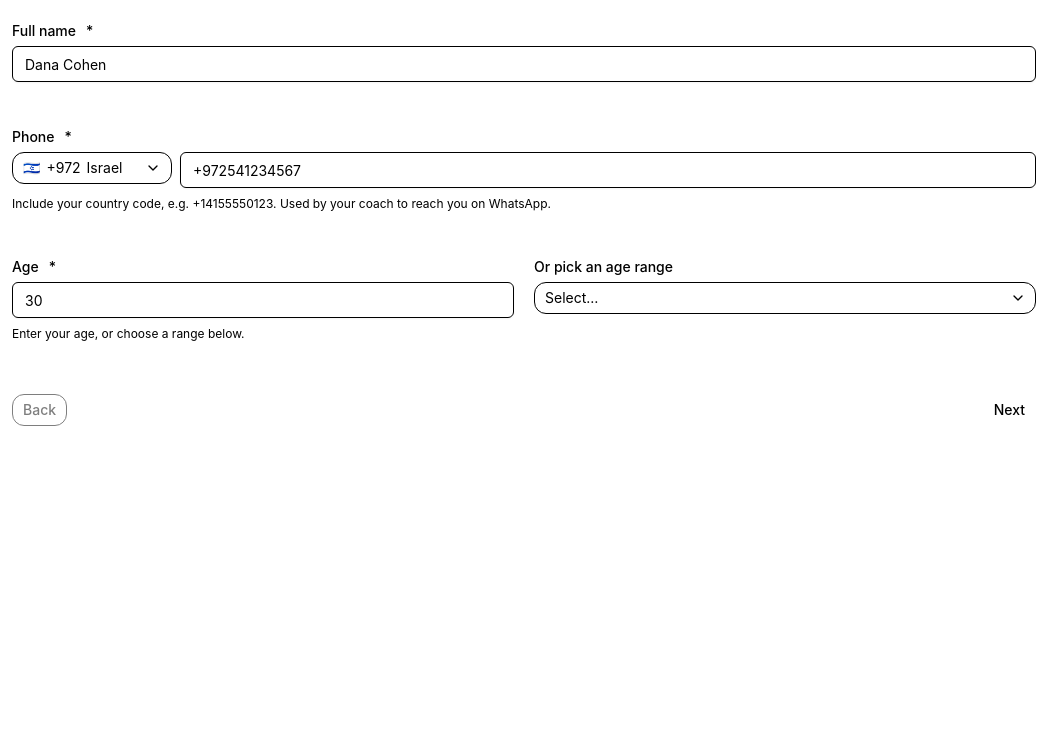
Test: OnboardingForm save-then-generate flow › keeps the pending state and its button when no plan was generated
This screenshot has width=1048, height=736.
What coordinates should you click on to do the following:
click the button "Next"
I would click on:
 (1009, 410)
Its box is 983,394 -> 1036,426.
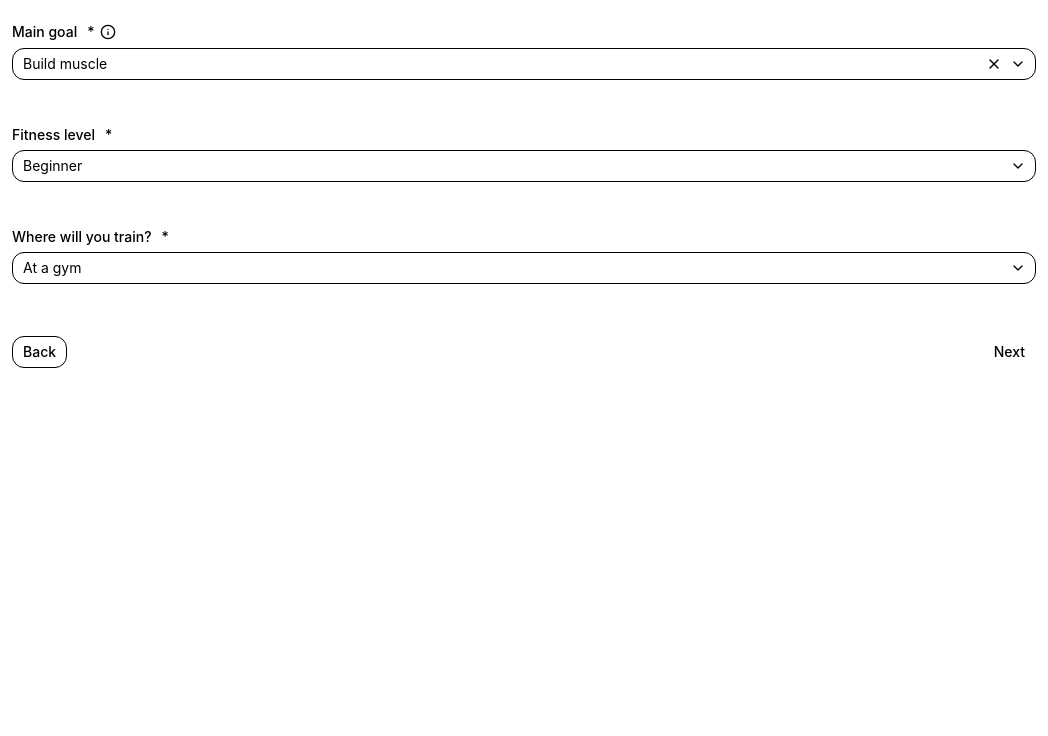
What coordinates should you click on to do the following:
click the button "Next"
I would click on:
 (1009, 352)
Its box is 983,336 -> 1036,368.
(page scrolled)
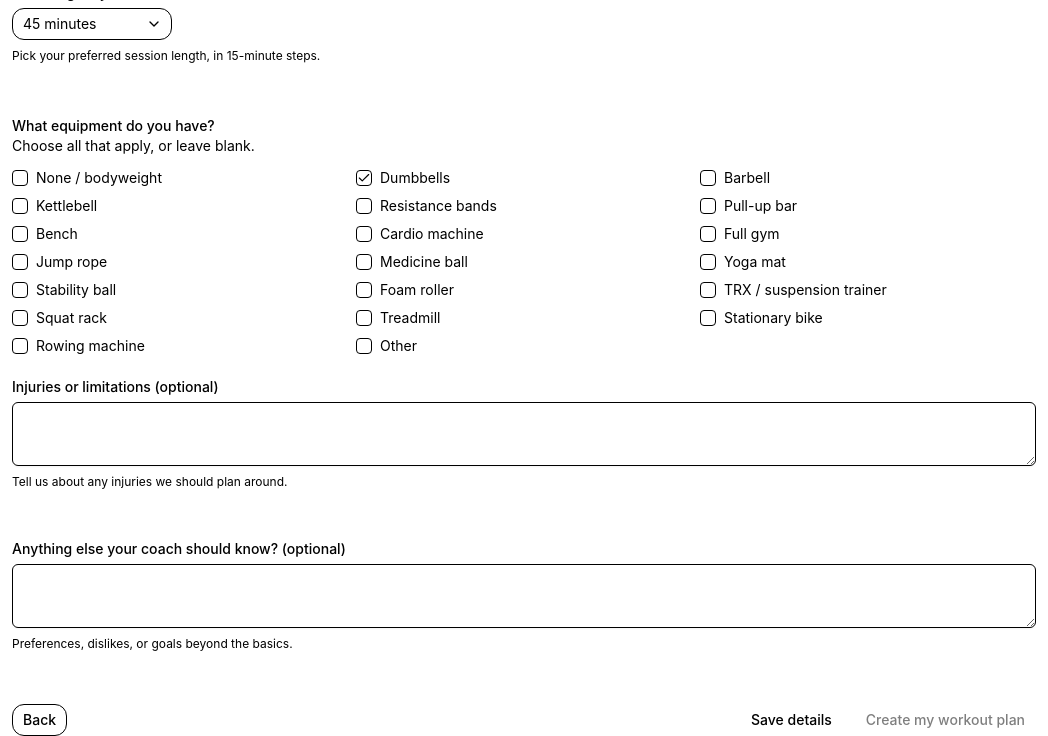
What coordinates should you click on to do the following:
click the button "Save details"
I would click on:
 (791, 720)
Its box is 740,704 -> 843,735.
(page scrolled)
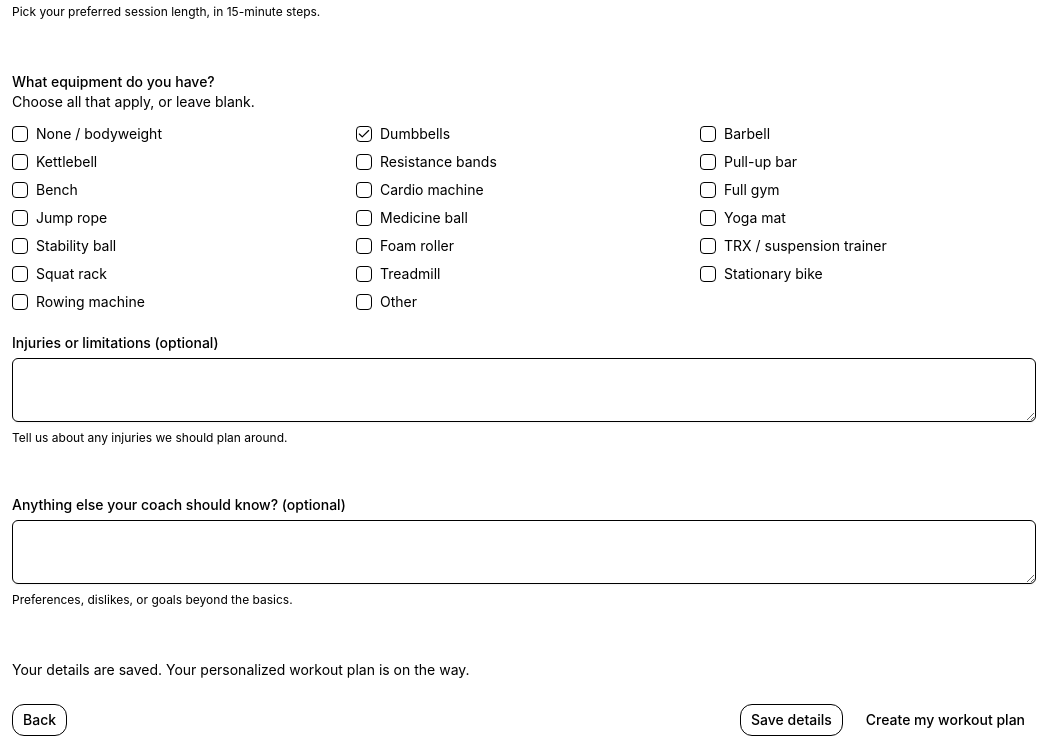
Result: the button "Create my workout plan" is enabled
What coordinates should you click on to do the following:
click the button "Create my workout plan"
I would click on:
 (945, 720)
Its box is 855,704 -> 1036,735.
(page scrolled)
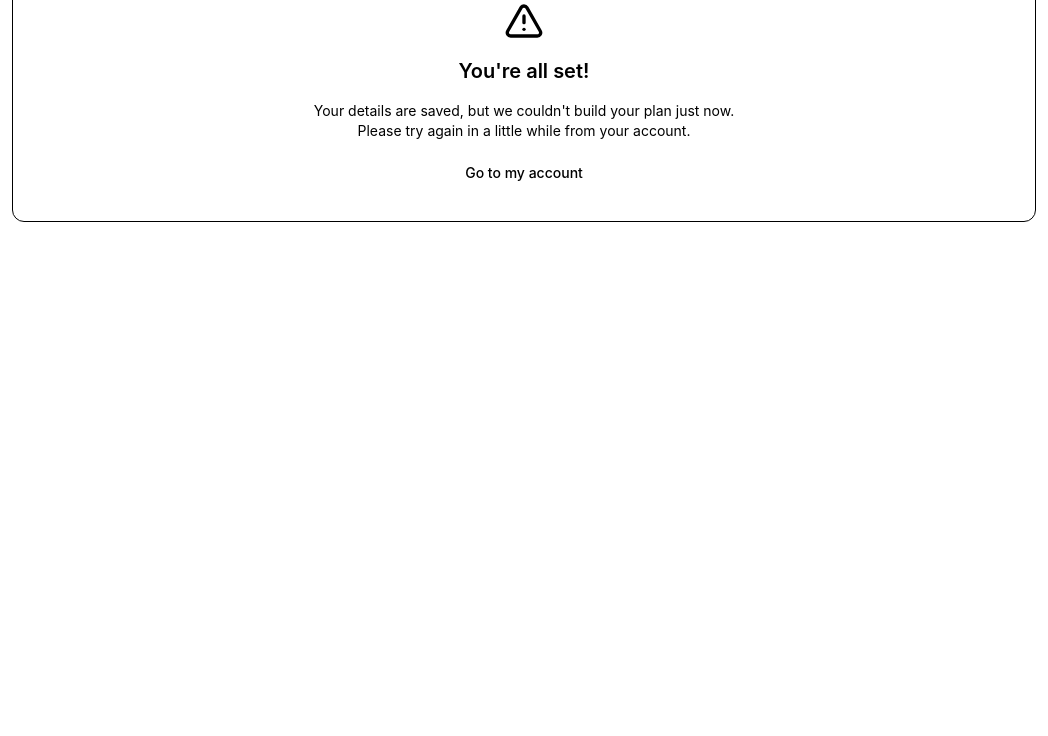
Result: the text "Your details are saved, but we couldn't build your plan just now. Please try again in a little while from your account." is shown at 314,102 -> 734,139
Result: the button "Go to my account" is shown at 454,157 -> 594,189
